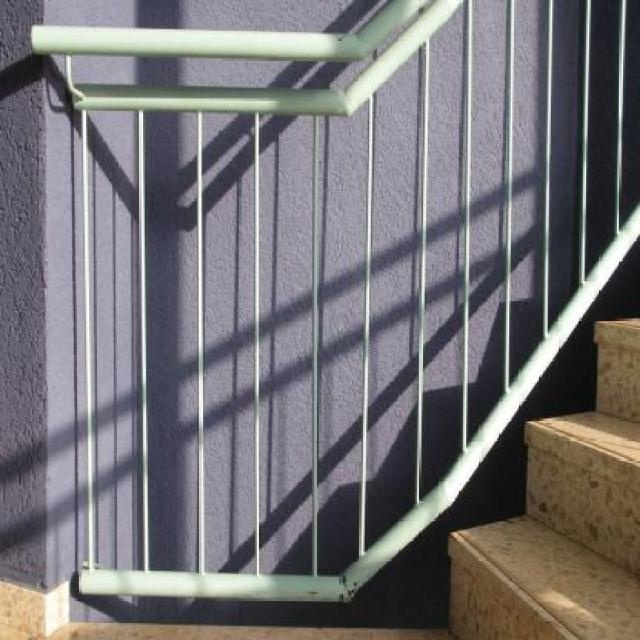stair: (448, 318, 640, 639)
